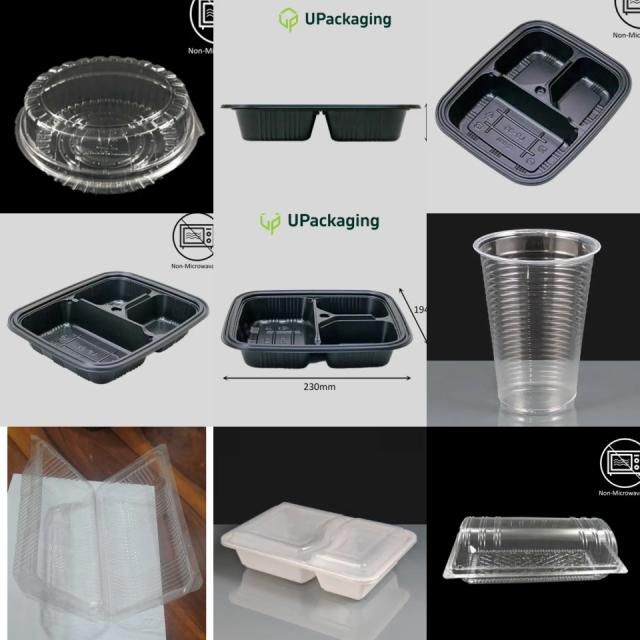Single-Use-Plastic: (12, 436, 201, 621), (436, 20, 631, 185), (15, 56, 204, 194), (474, 229, 600, 414), (10, 272, 208, 382), (221, 502, 416, 599), (221, 291, 412, 369), (444, 518, 628, 584), (221, 105, 419, 141)
